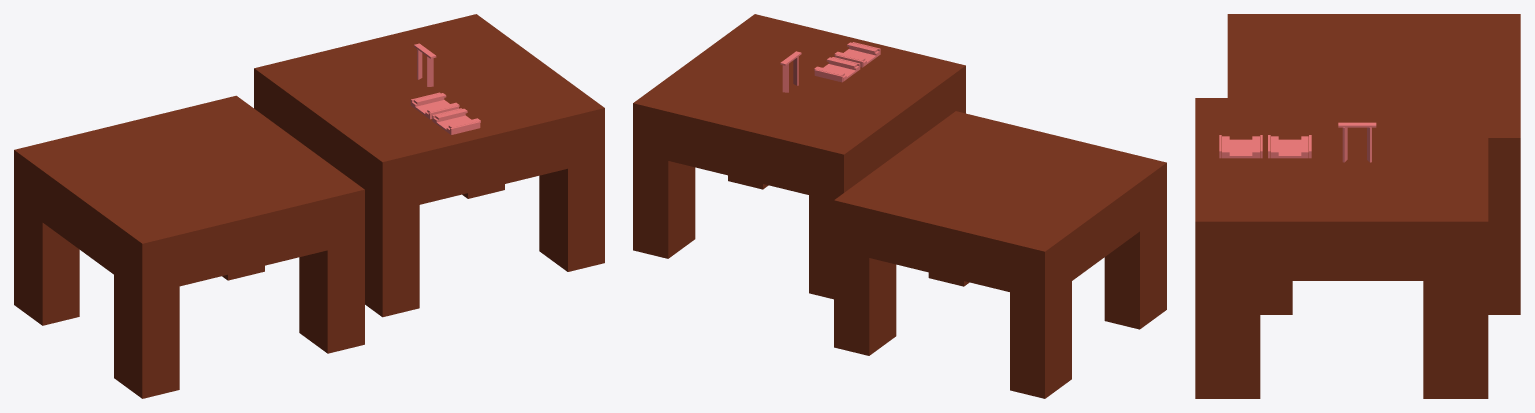
Rendered from keva_double_run_2.dae.
3 views of the same model, side by side, from view 1: azimuth 30°, elevation 25°; view 2: azimuth 150°, elevation 25°; view 3: azimuth 270°, elevation 25° (orthographic). The views are drawn at different scales.
Visible parts, largest first — view 1: base (×7); view 2: base (×7); view 3: base (×8).
Part boxes in pixels (<box>): base (×7): <box>14,14,604,398</box>; base (×7): <box>633,14,1166,398</box>; base (×8): <box>1195,14,1520,398</box>.
Bounding box in the file's own units: 1.81 × 0.9991 × 0.8676.
